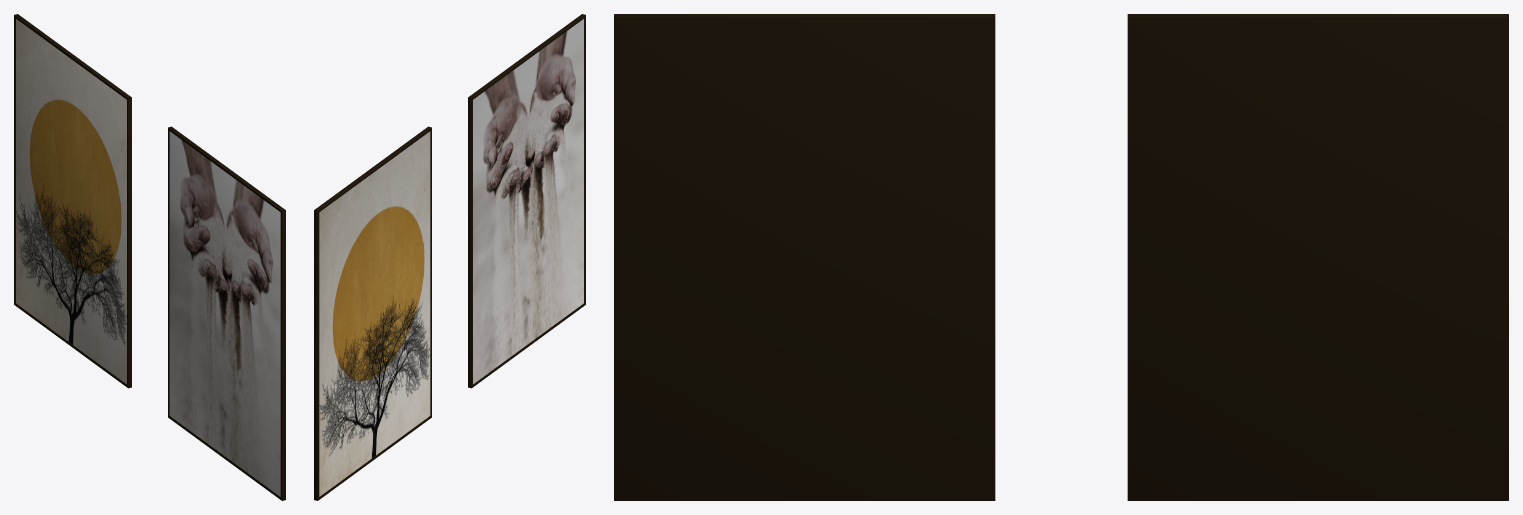
File: Paintings.glb
3 views of the same model, side by side, from view 1: azimuth 30°, elevation 25°; view 2: azimuth 150°, elevation 25°; view 3: azimuth 270°, elevation 25° (orthographic). The views are drawn at different scales.
Parts seen in each view (by area): view 1: Painting 1, Painting 2; view 2: Painting 1, Painting 2; view 3: Painting 1, Painting 2.
Boxes of the visible parts, x1,y1,x2,y2 form: Painting 1: [14, 14, 131, 388]; Painting 2: [168, 126, 285, 500]; Painting 1: [314, 126, 431, 500]; Painting 2: [468, 14, 585, 388]; Painting 1: [1127, 14, 1508, 500]; Painting 2: [614, 14, 995, 500].
Size of the model in its own units: 0.0206 by 1.43 by 2.4.
Materials: 3 (2 with a texture image).
